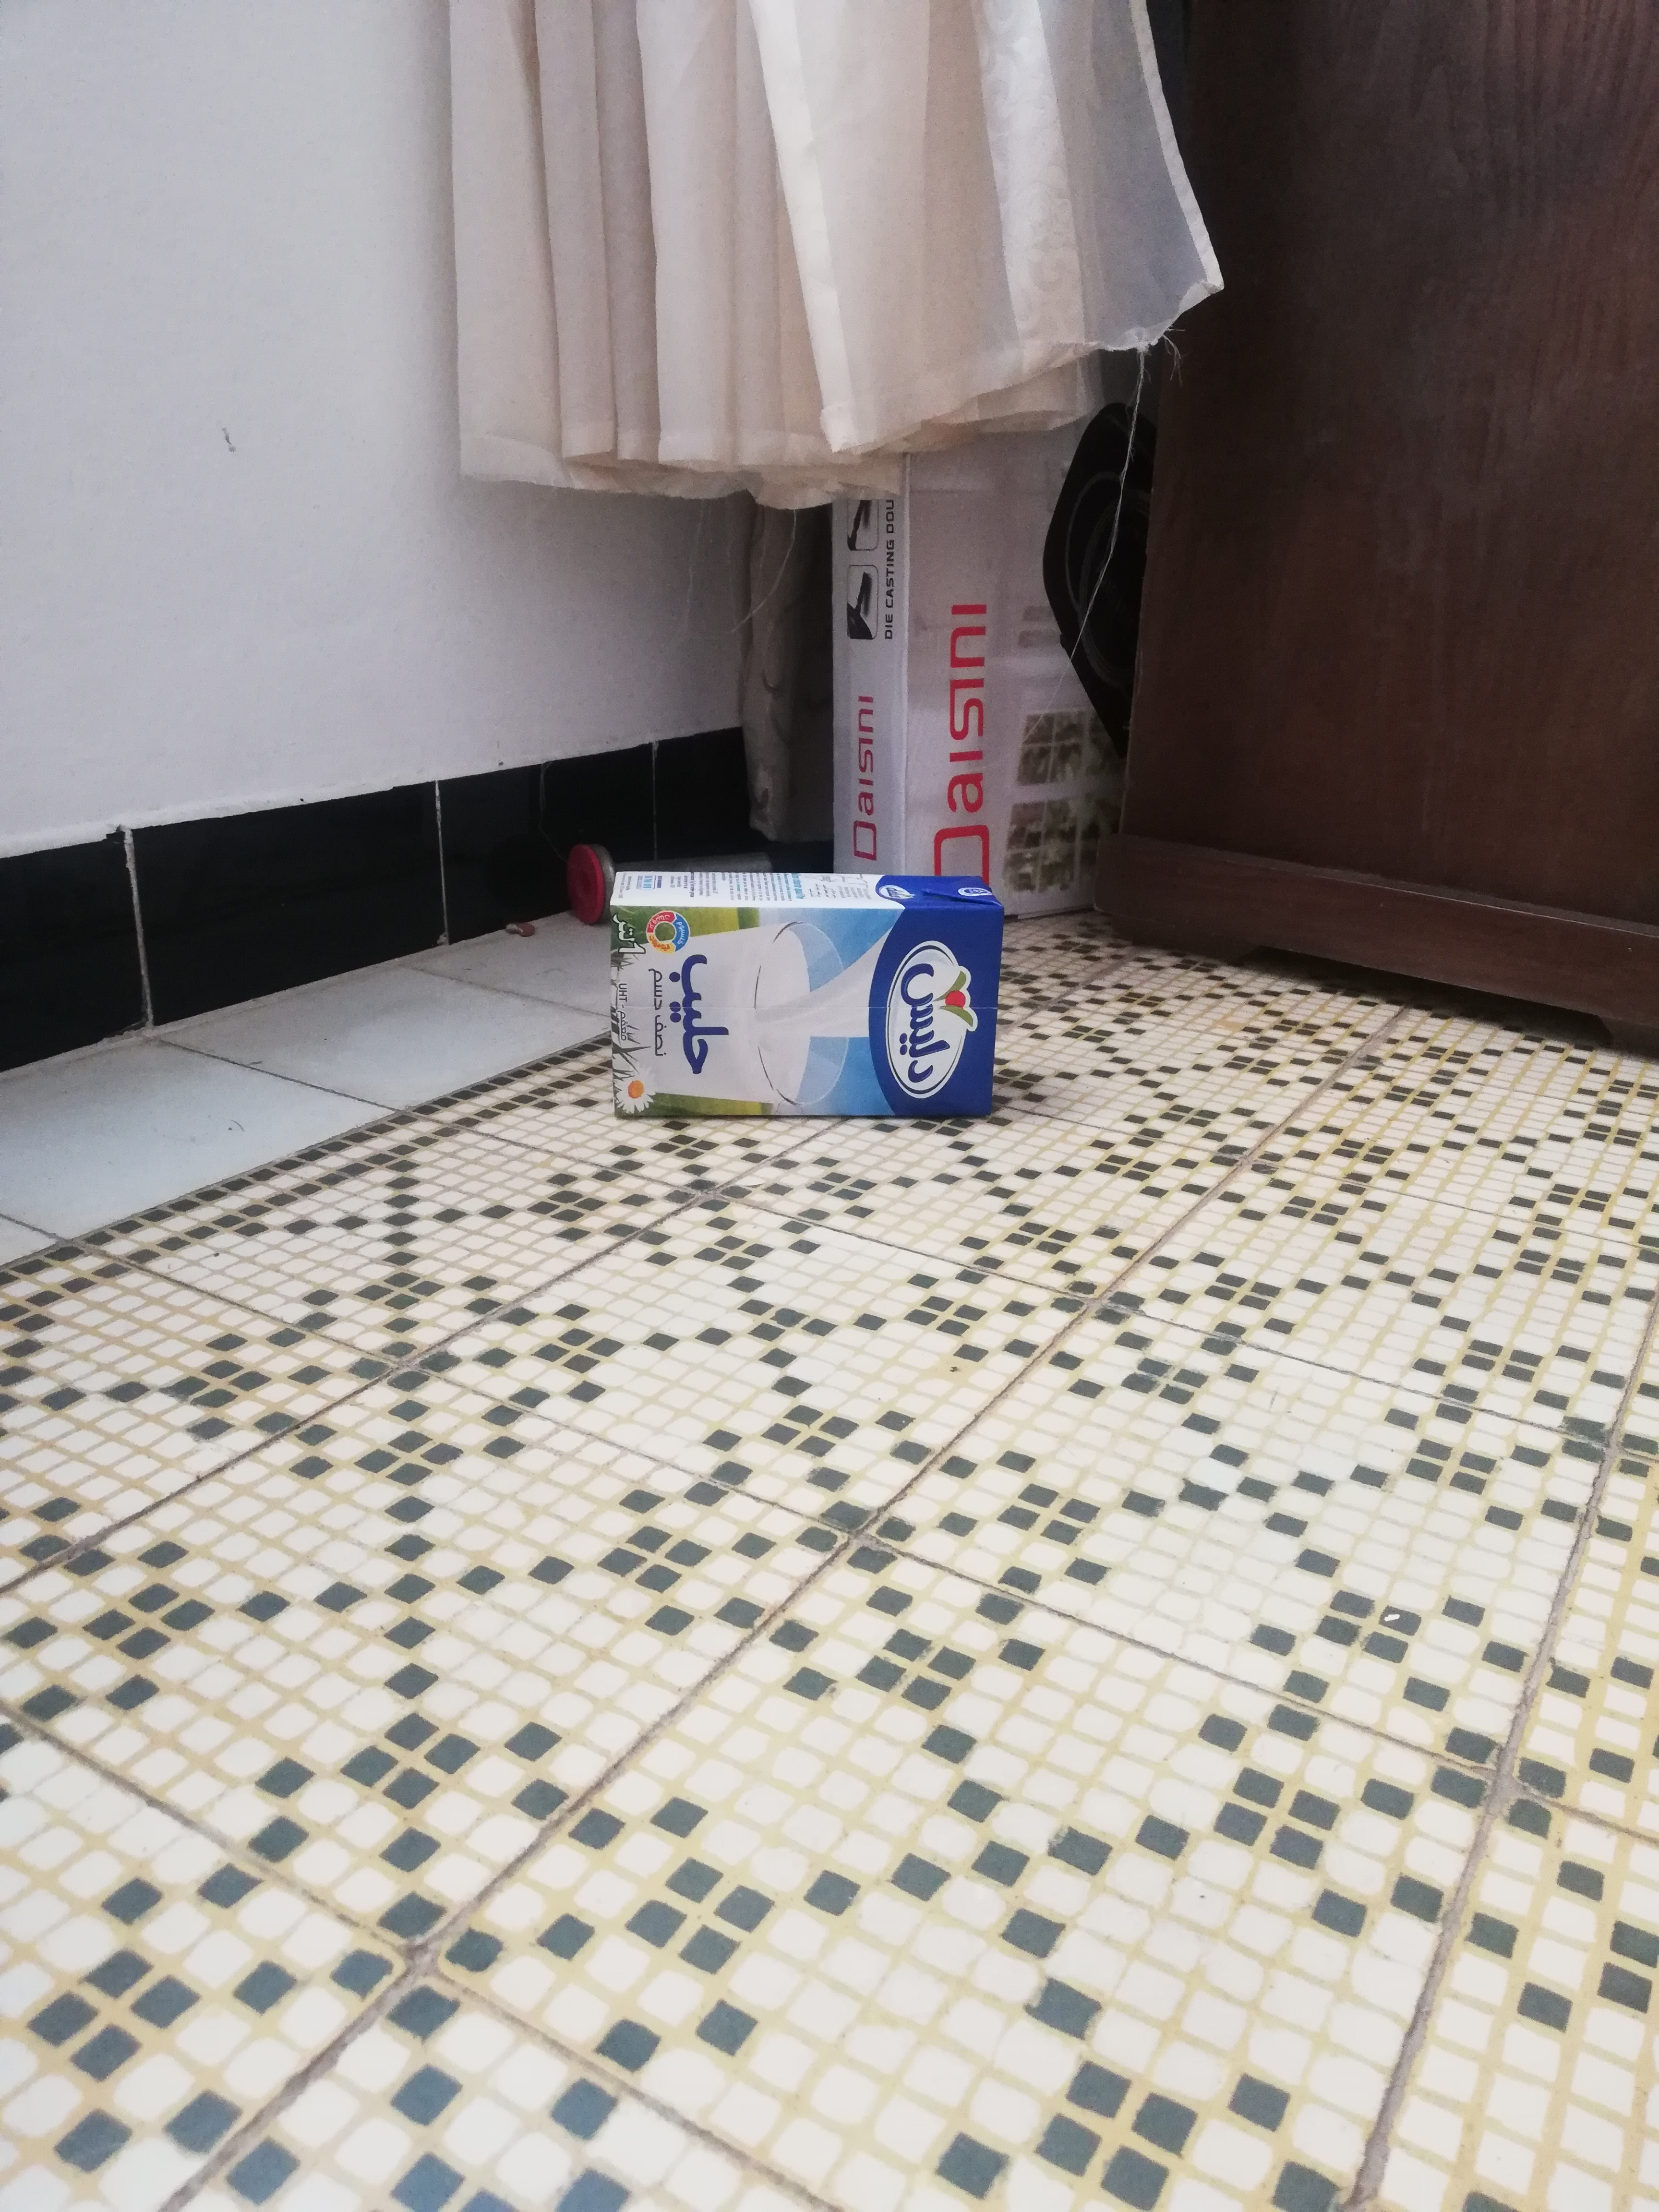Lait delice: (603, 869, 1004, 1127)
